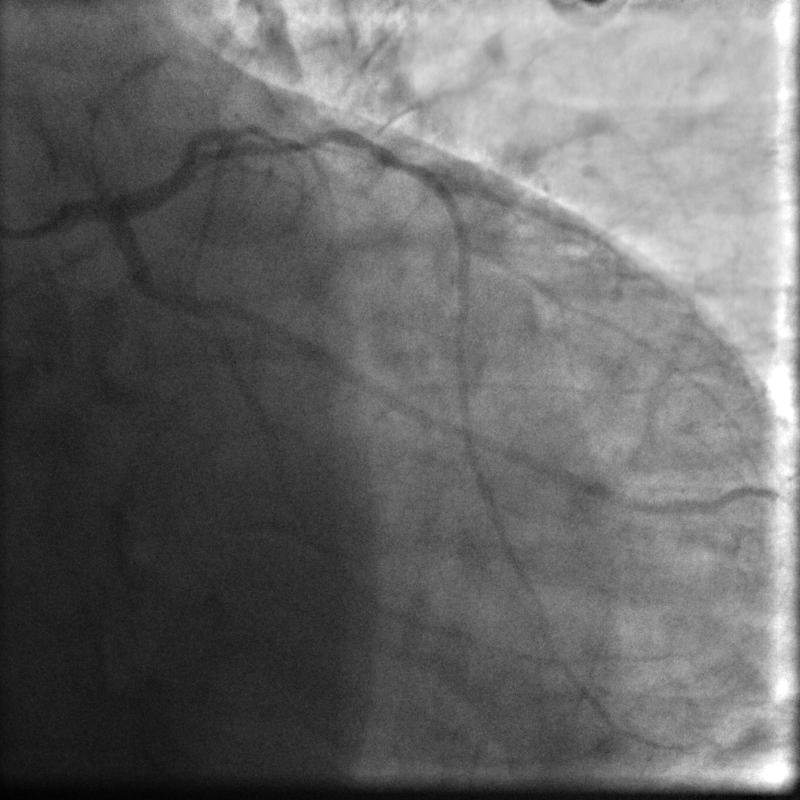Stenosis: (249, 127, 355, 154)
